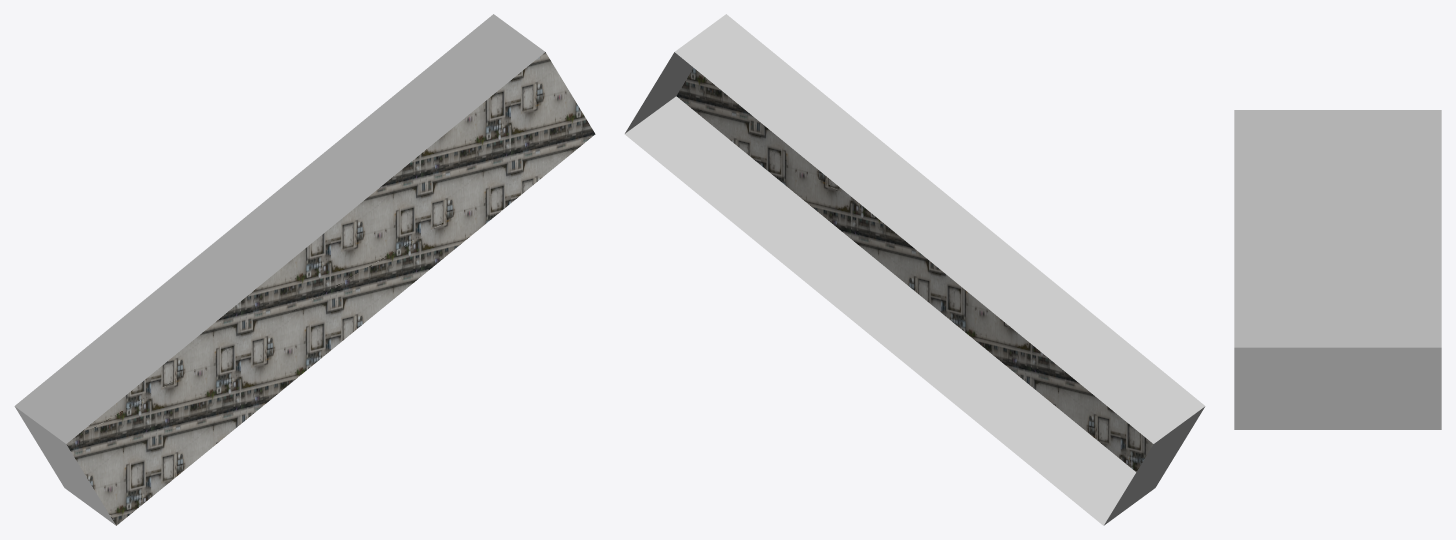
File: geospecific_252.obj
3 views of the same model, side by side, from view 1: azimuth 30°, elevation 25°; view 2: azimuth 150°, elevation 25°; view 3: azimuth 270°, elevation 25° (orthographic). The views are drawn at different scales.
Visible parts, largest first — view 1: Building; view 2: Building; view 3: Building.
Boxes of the visible parts, x1,y1,x2,y2 form: Building: (14, 14, 595, 525); Building: (624, 14, 1205, 525); Building: (1234, 110, 1441, 429).
Size of the model in its own units: 17.66 by 11.77 by 3.
